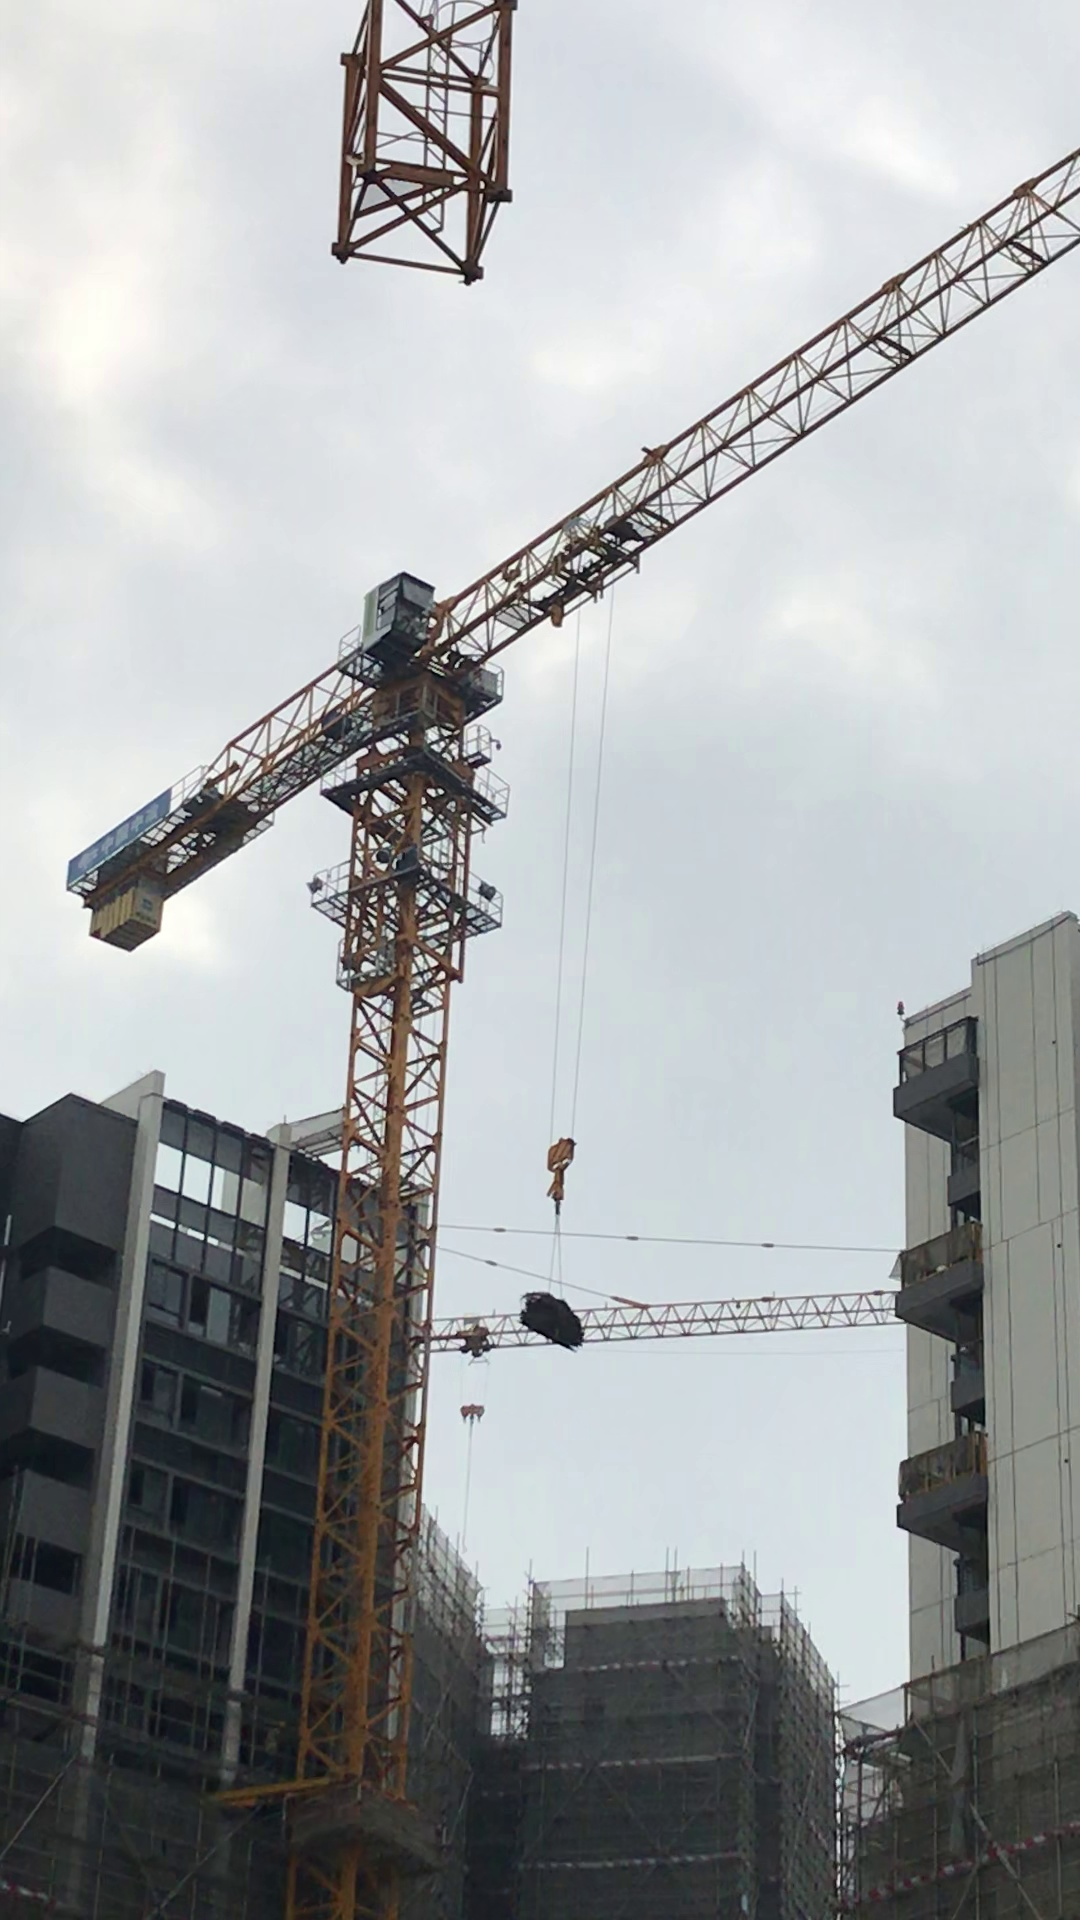hook: (545, 1137, 578, 1217), (460, 1403, 485, 1423)
